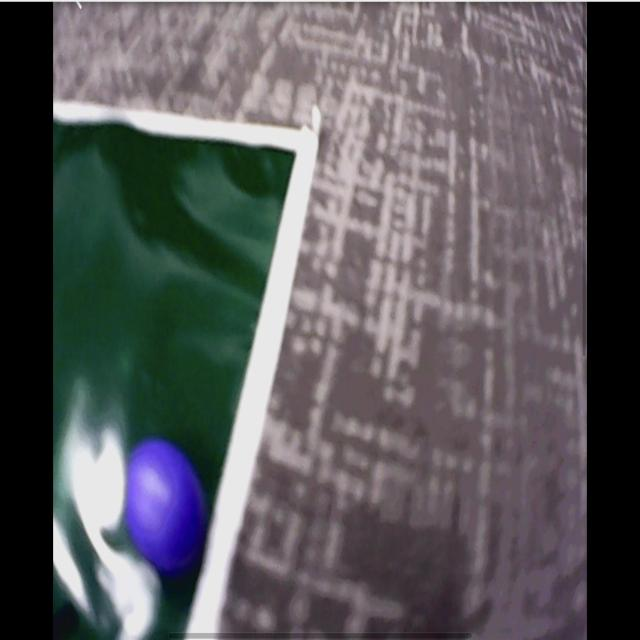ball: (126, 443, 208, 577)
